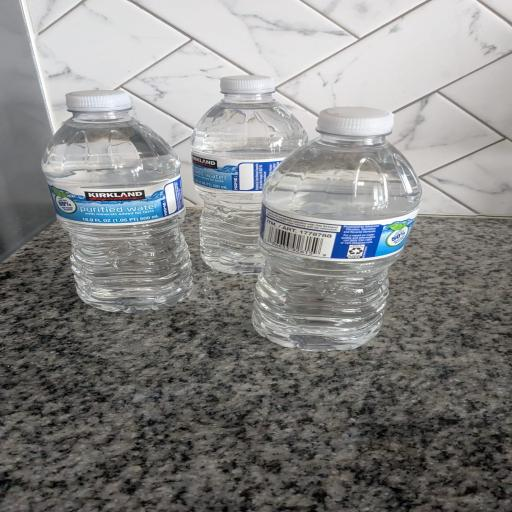waterbottle: (253, 108, 420, 350), (43, 91, 192, 312), (192, 76, 307, 274)
